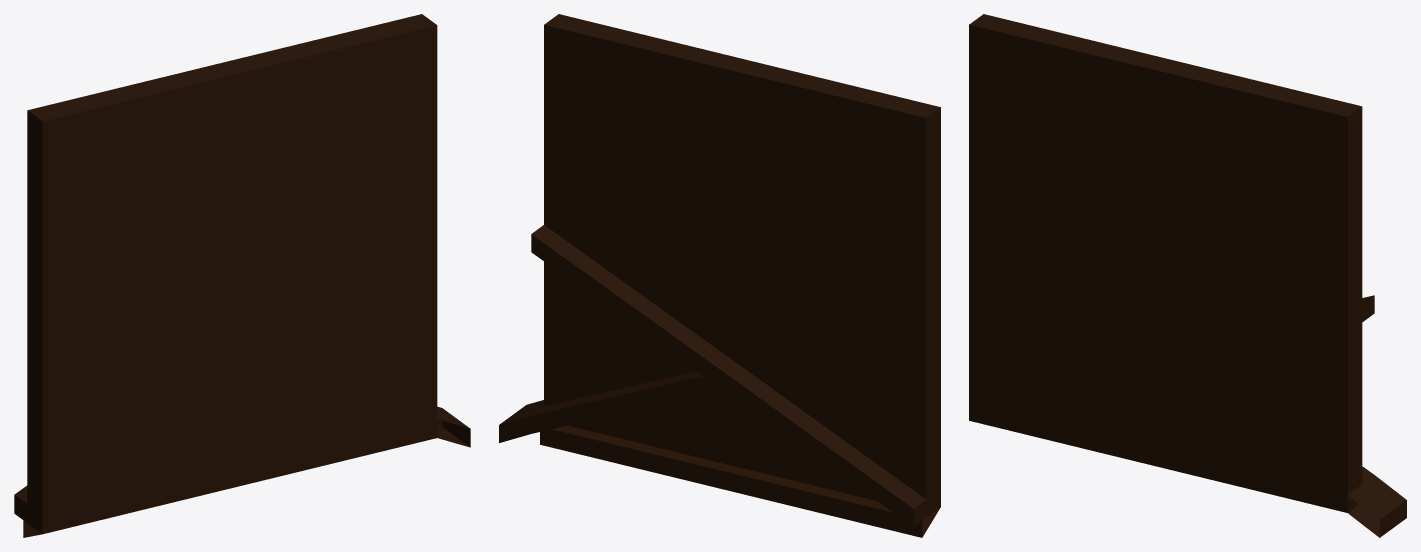
File: Kit_Archi_Wall_Plaster.fbx
The picture shows the model from 3 angles, left to right: view 1: azimuth 30°, elevation 25°; view 2: azimuth 150°, elevation 25°; view 3: azimuth 330°, elevation 25°; orthographic projection. The views are drawn at different scales.
Parts seen in each view (by area): view 1: Wall_Plaster001, Wall_Plaster004, Wall_Plaster003, Wall_Plaster000, Wall_Plaster006, Wall_Plaster002, Roof_009; view 2: Wall_Plaster003, Wall_Plaster006, Wall_Plaster005, Object003, Roof_003, Roof_001, Wall_Plaster001, Wall_Plaster000, Roof_009; view 3: Wall_Plaster001, Wall_Plaster004, Wall_Plaster002, Wall_Plaster003, Wall_Plaster006, Roof_009.
Part boxes in pixels (x1,y1,x2,y2): Wall_Plaster001: [28, 14, 437, 533]; Wall_Plaster004: [27, 181, 331, 526]; Wall_Plaster003: [31, 174, 325, 533]; Wall_Plaster000: [27, 73, 238, 519]; Wall_Plaster006: [167, 147, 325, 212]; Wall_Plaster002: [141, 145, 331, 327]; Roof_009: [437, 406, 470, 447]; Wall_Plaster003: [544, 25, 940, 517]; Wall_Plaster006: [545, 57, 926, 472]; Wall_Plaster005: [544, 226, 940, 515]; Object003: [531, 362, 926, 526]; Roof_003: [540, 425, 940, 537]; Roof_001: [531, 225, 924, 508]; Wall_Plaster001: [544, 14, 940, 117]; Wall_Plaster000: [926, 107, 940, 498]; Roof_009: [499, 400, 543, 442]; Wall_Plaster001: [969, 14, 1361, 512]; Wall_Plaster004: [1064, 214, 1246, 488]; Wall_Plaster002: [1064, 106, 1362, 512]; Wall_Plaster003: [1089, 170, 1240, 253]; Wall_Plaster006: [1089, 144, 1240, 207]; Roof_009: [1348, 475, 1406, 537].
Size of the model in its own units: 325 by 313 by 37.28.
